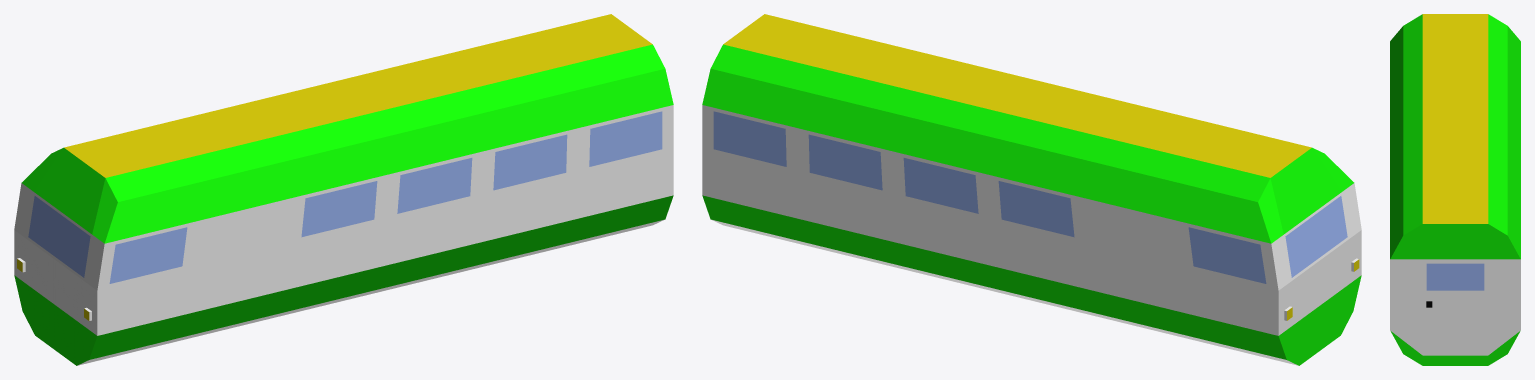
Rendered from Train(Green).fbx.
The picture shows the model from 3 angles, left to right: view 1: azimuth 30°, elevation 25°; view 2: azimuth 150°, elevation 25°; view 3: azimuth 270°, elevation 25°; orthographic projection. The views are drawn at different scales.
Parts seen in each view (by area): view 1: Train; view 2: Train; view 3: Train.
Part boxes in pixels (x1,y1,x2,y2): Train: (14, 14, 673, 365); Train: (702, 14, 1361, 365); Train: (1390, 14, 1520, 365).
Size of the model in its own units: 402 by 120 by 100.
